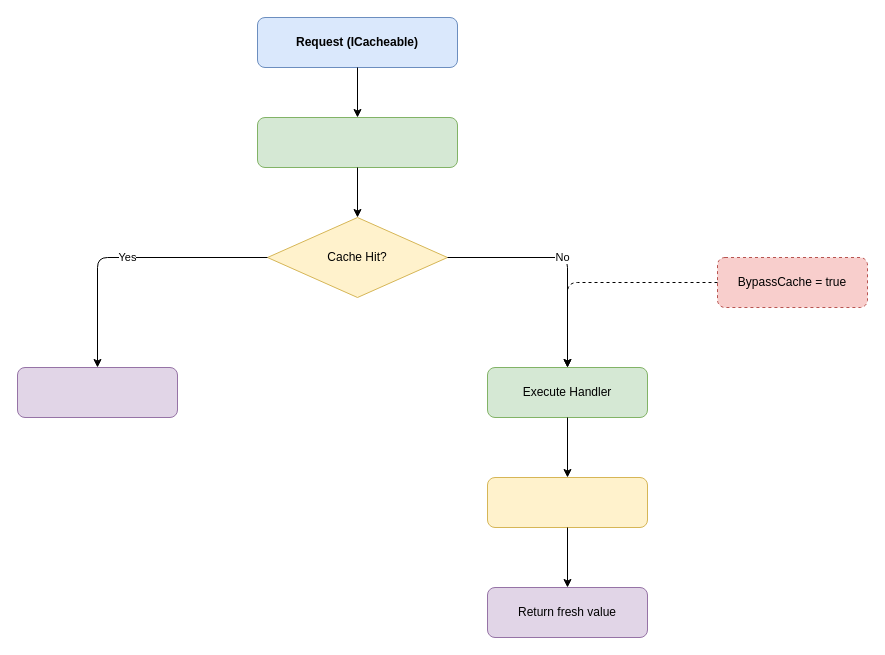
This 885x655 diagram has some shape labels left out. Here are the shapes that lost their labels. From the top down, the centre of each, then its label:
At pixel 357 142: "CachingBehavior".
At pixel 97 392: "Return cached value".
At pixel 567 502: "Store in cache".
